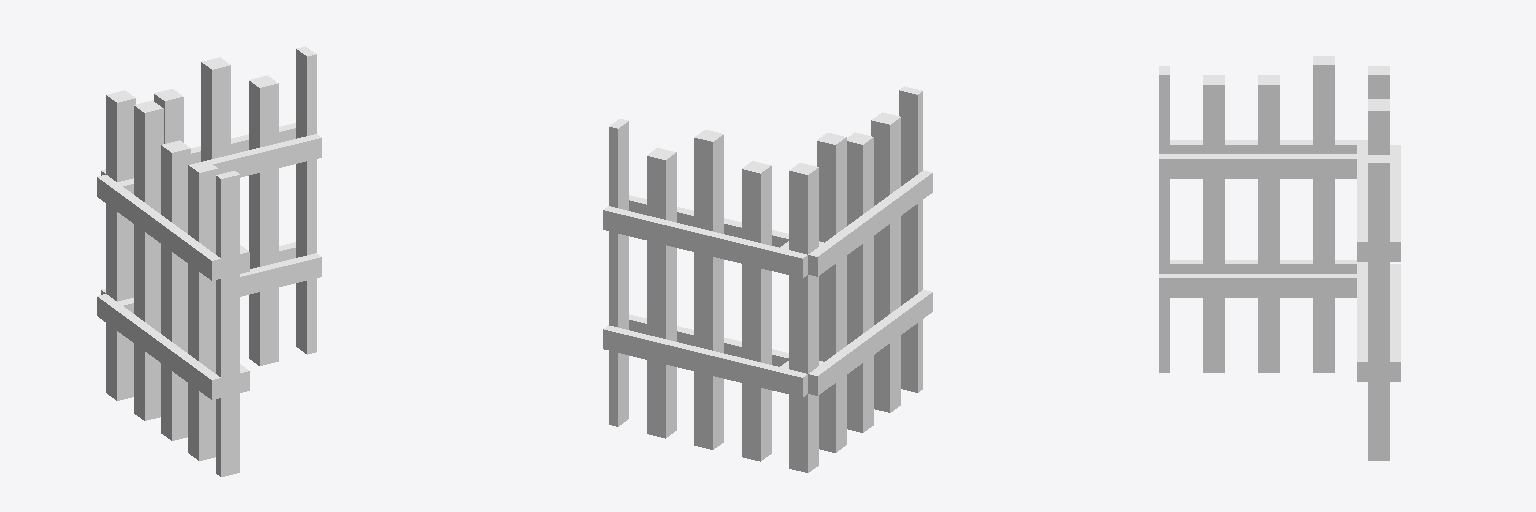
The model's file is wall-angle_bamboo.obj.
3 renders of one model, left to right at view 1: azimuth 30°, elevation 25°; view 2: azimuth 150°, elevation 25°; view 3: azimuth 270°, elevation 25°, orthographic.
Parts seen in each view (by area): view 1: object 1; view 2: object 1; view 3: object 1.
Boxes of the visible parts, <box> form: object 1: <box>97,46,321,476</box>; object 1: <box>603,86,932,472</box>; object 1: <box>1159,56,1400,460</box>.
Bounding box in the file's own units: 2.2 × 3.1 × 2.2.